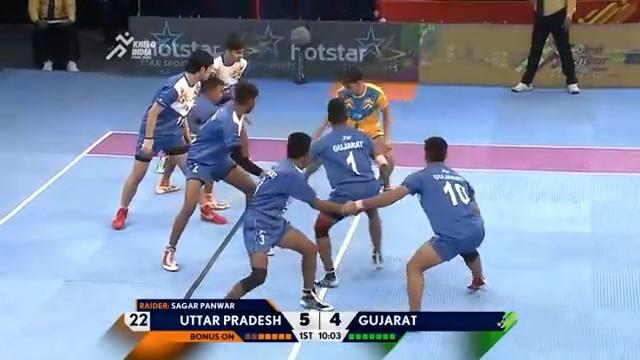Player: (319, 133, 492, 312), (221, 129, 356, 312), (160, 79, 278, 272), (111, 48, 228, 230), (303, 96, 388, 288), (205, 33, 253, 103)
Raider: (322, 68, 397, 206)
referee: (510, 0, 581, 94), (26, 0, 81, 72)
